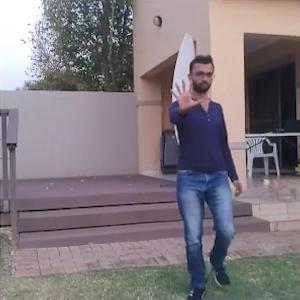follow_hand: (166, 73, 204, 116)
